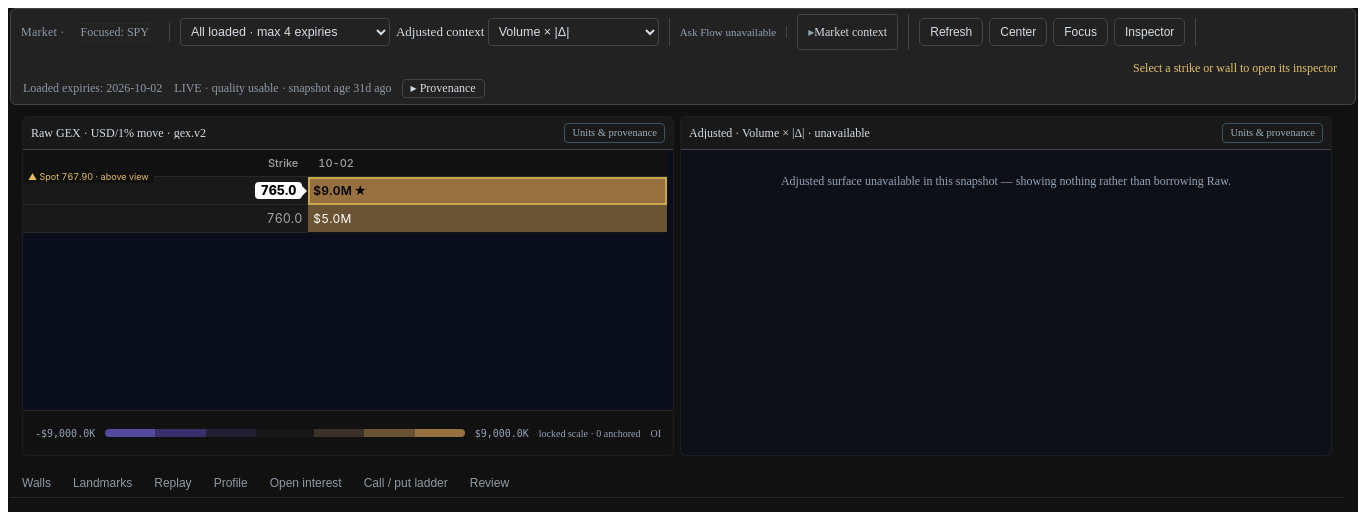
Test: a failed explicit refresh keeps its previous identified reading and offers retry
Click the button with aria-label "Refresh Market reading" at (951, 32), box [919,18,983,46]
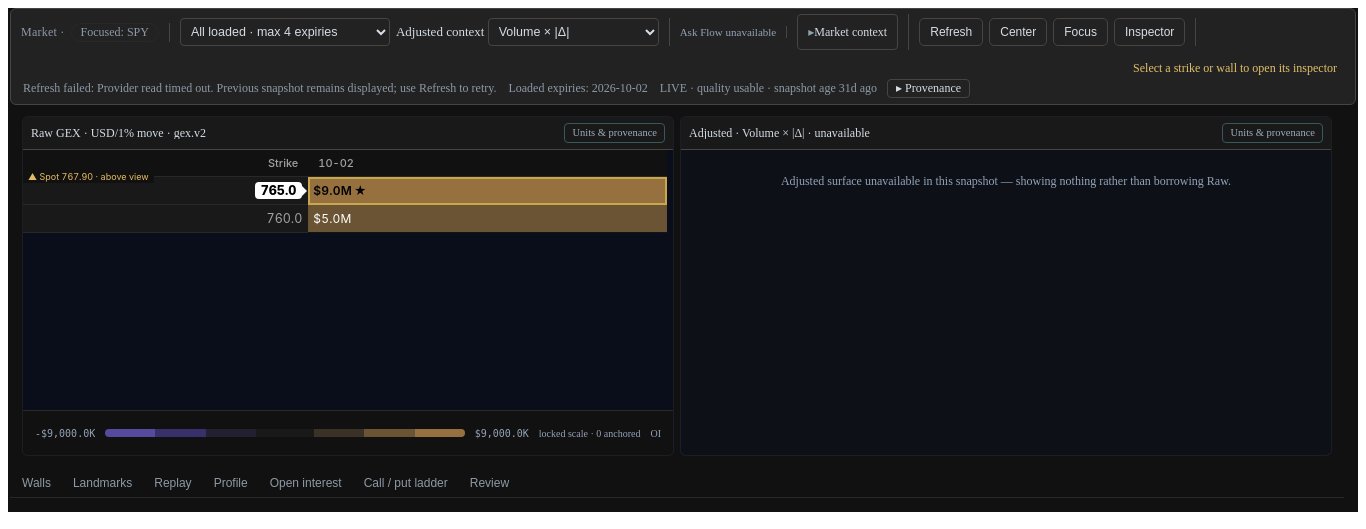
Now the message that starts with "Refresh failed:" shows "Provider read timed out", box [97,81,211,95]
Now the message that starts with "Refresh failed:" shows "Previous snapshot remains displayed", box [211,81,496,95]
